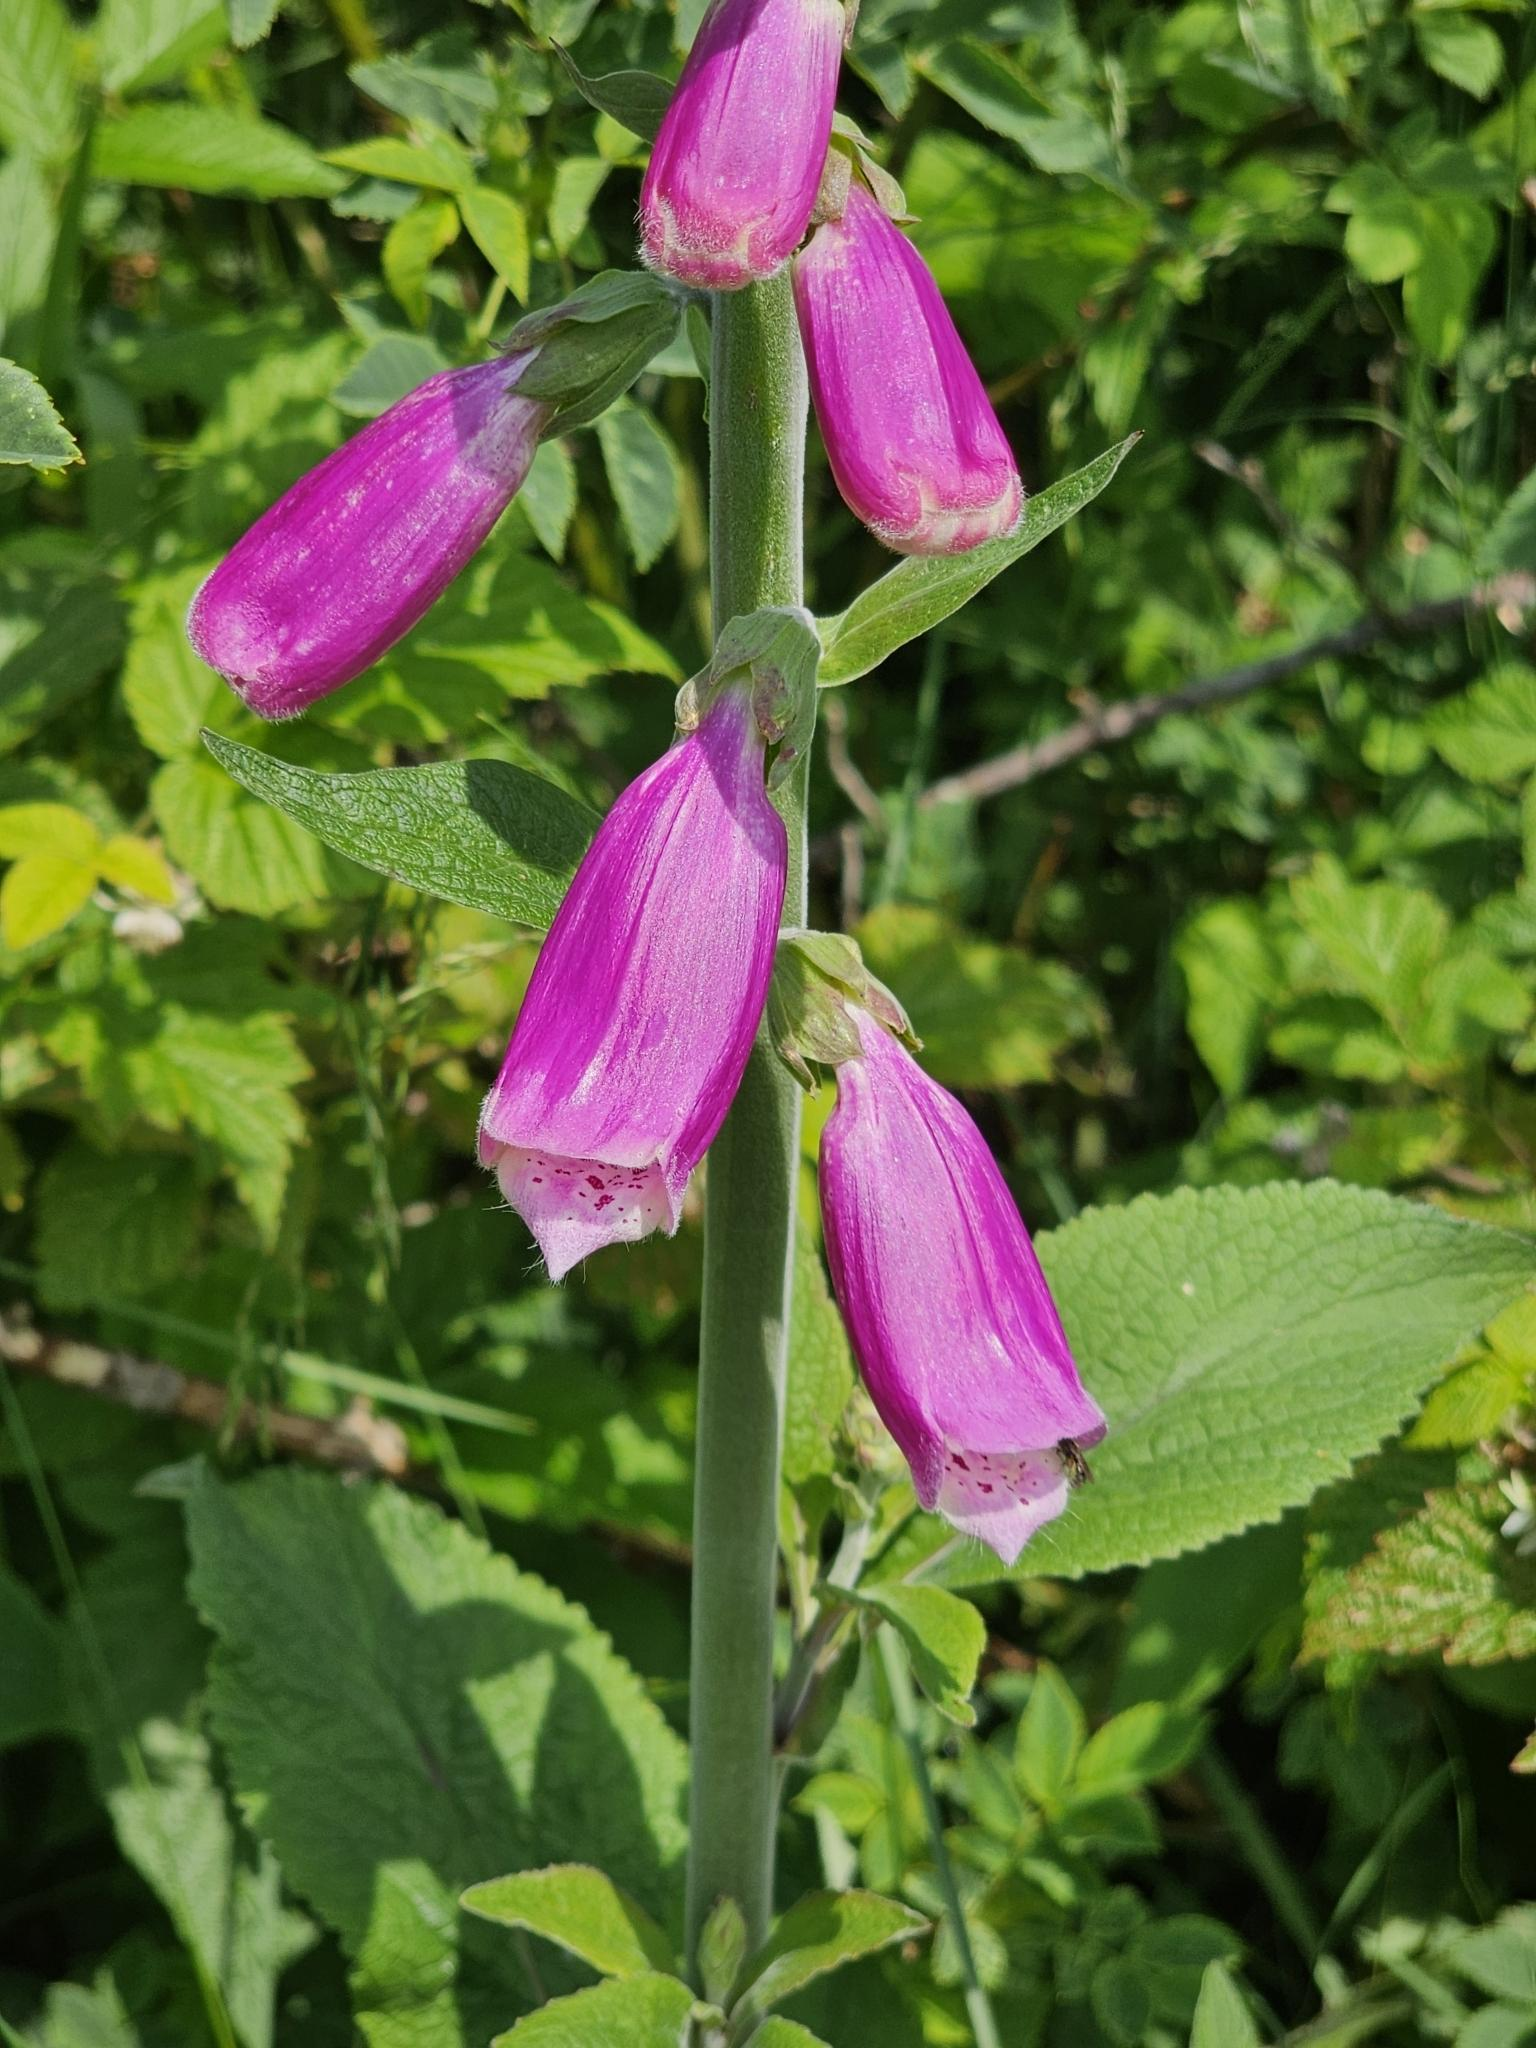Digitalis L: (428, 705, 886, 1272), (110, 282, 652, 731), (757, 1034, 1108, 1542), (771, 169, 1012, 600)
